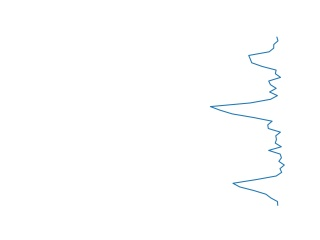underwaterNaturalLevee: (207, 36, 287, 204)
